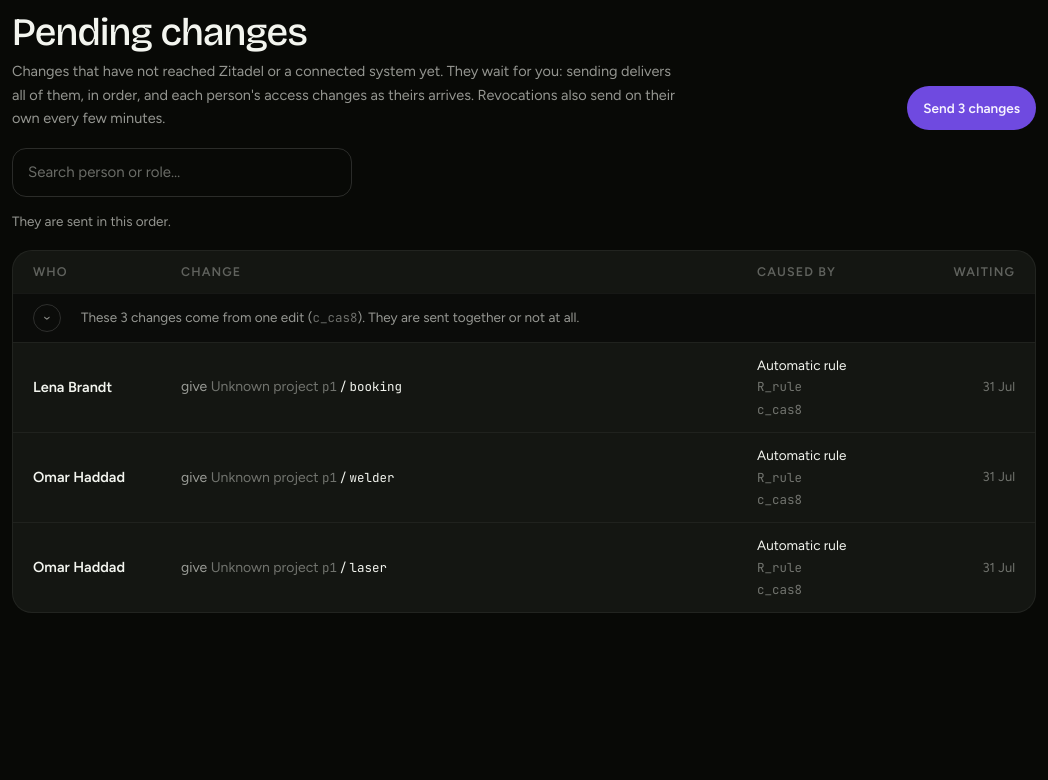
Test: Pending changes · board layout › search › keeps a narrowed batch's band, counting the whole edit and saying how much is shown
Step 1. Type "omar" into the field named "Search pending changes" → (182, 173), box [12,148,352,197]
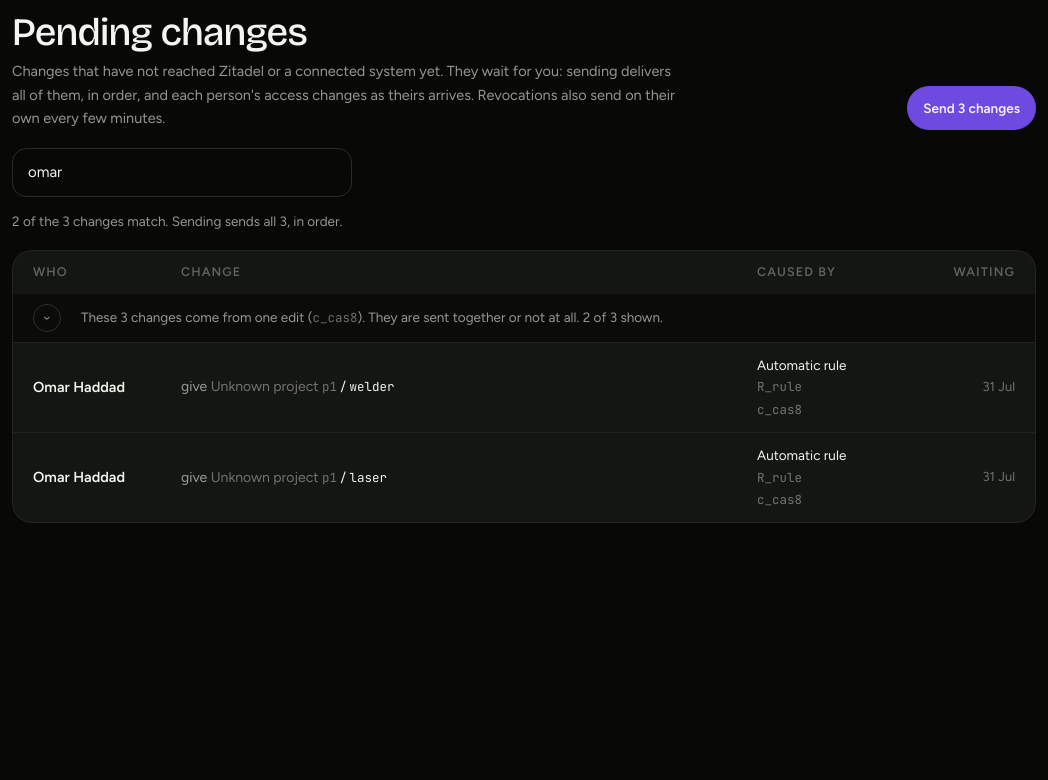
expect the button named "Fold these 3 changes" is shown: met, box [25,296,69,340]
expect the text "They are sent together or not at all. 2 of 3 shown." is shown: met, box [81,309,663,326]
